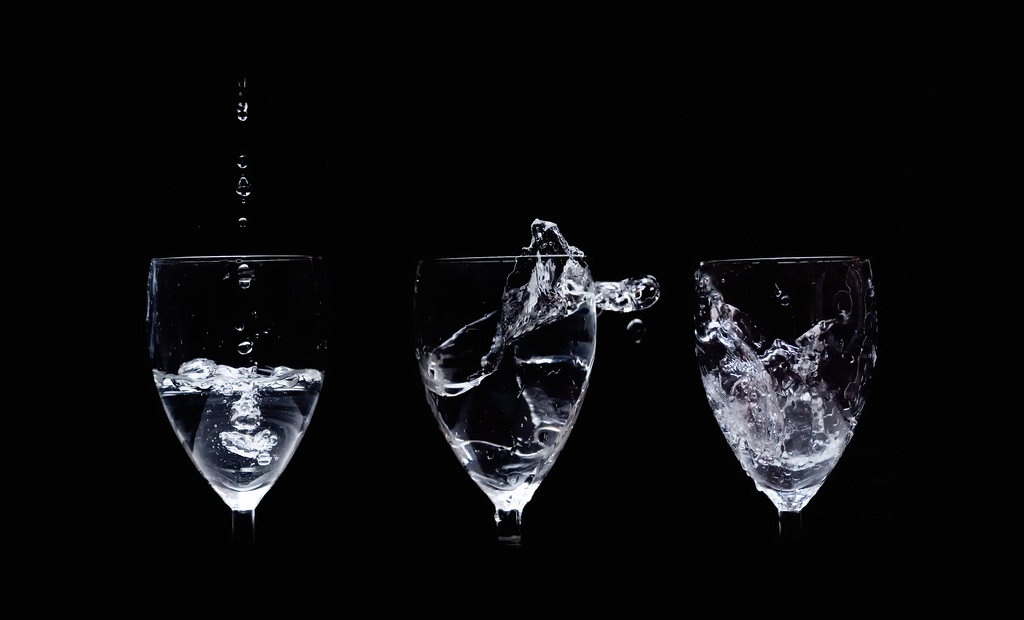glass of water: (673, 225, 904, 612), (134, 233, 347, 597), (419, 228, 604, 597)
